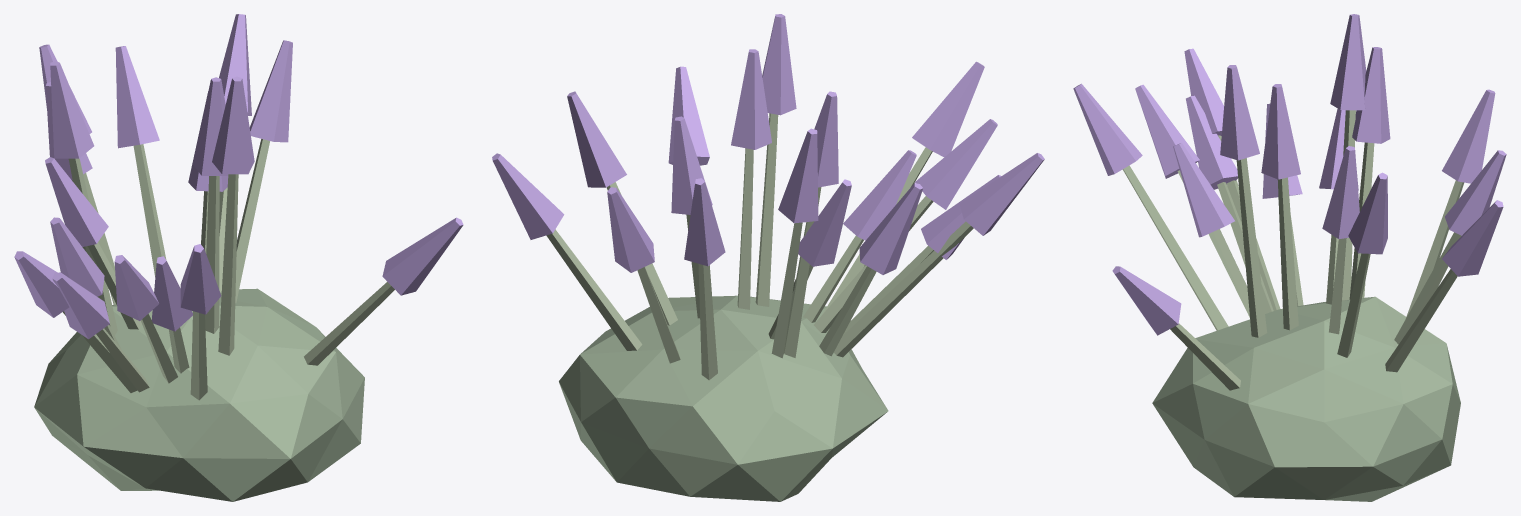
File: Bush_Lavender.fbx
3 renders of one model, left to right at view 1: azimuth 30°, elevation 25°; view 2: azimuth 150°, elevation 25°; view 3: azimuth 270°, elevation 25°, orthographic. The views are drawn at different scales.
Visible parts, largest first — view 1: Bush_Lavender; view 2: Bush_Lavender; view 3: Bush_Lavender.
Part boxes in pixels (x1,y1,x2,y2): Bush_Lavender: [14, 14, 463, 501]; Bush_Lavender: [492, 14, 1044, 501]; Bush_Lavender: [1073, 14, 1506, 501].
Bounding box in the file's own units: 1.05 × 1.1 × 1.02.
